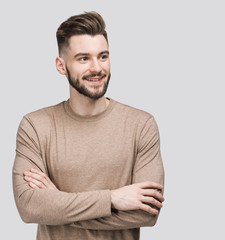young: (53, 11, 119, 103)
